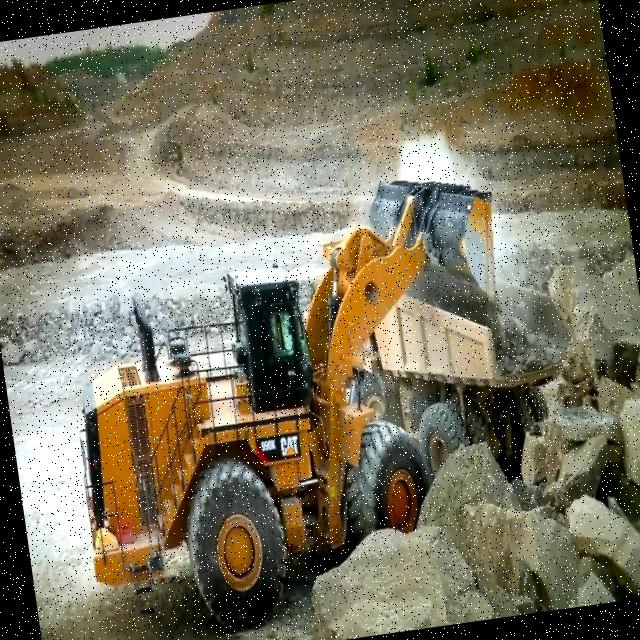Dump Truck: (332, 250, 597, 512)
Loader: (43, 164, 549, 640)
